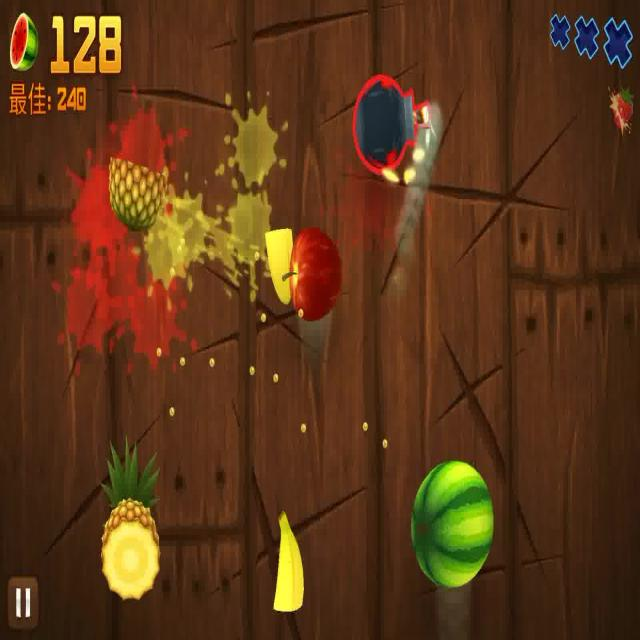bomb: (345, 65, 439, 211)
fruit: (90, 439, 174, 602), (409, 458, 496, 586), (284, 224, 343, 326), (106, 151, 170, 234), (269, 507, 311, 618), (258, 222, 294, 304)
